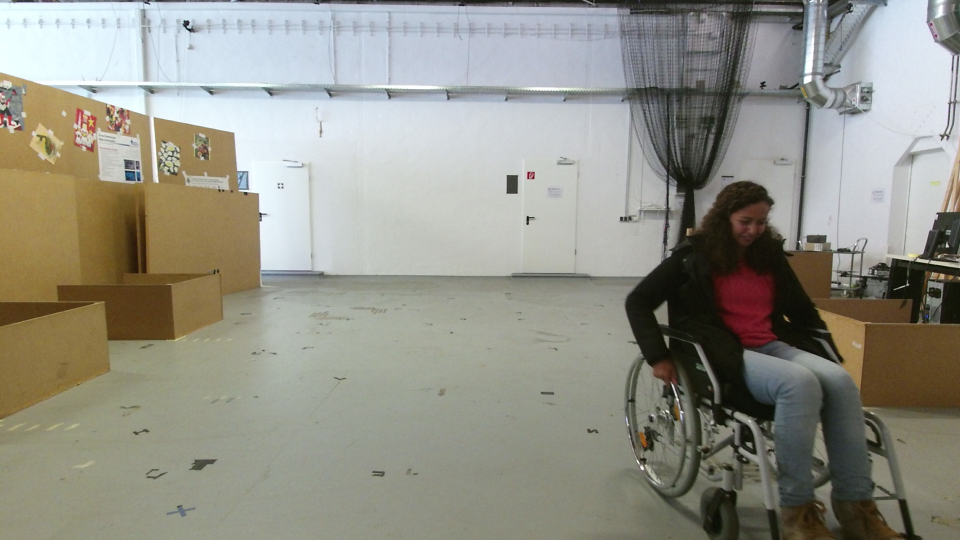wheelchair: (618, 179, 925, 540)
